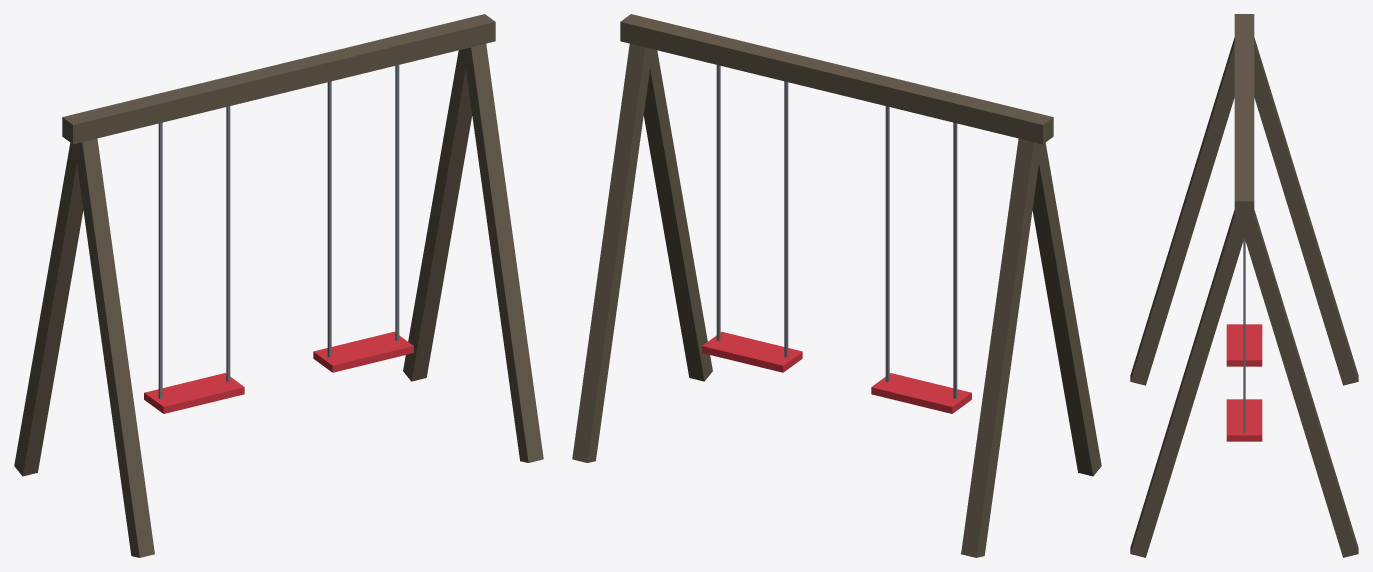
File: scatter-single1.fbx
3 views of the same model, side by side, from view 1: azimuth 30°, elevation 25°; view 2: azimuth 150°, elevation 25°; view 3: azimuth 270°, elevation 25° (orthographic). The views are drawn at different scales.
Parts seen in each view (by area): view 1: a2000/600/scatter-single1; view 2: a2000/600/scatter-single1; view 3: a2000/600/scatter-single1.
Boxes of the visible parts, bbox=[...] form: a2000/600/scatter-single1: bbox=[14, 14, 543, 557]; a2000/600/scatter-single1: bbox=[572, 14, 1101, 557]; a2000/600/scatter-single1: bbox=[1130, 14, 1358, 557].
Size of the model in its own units: 2.5 by 2.25 by 1.29.
